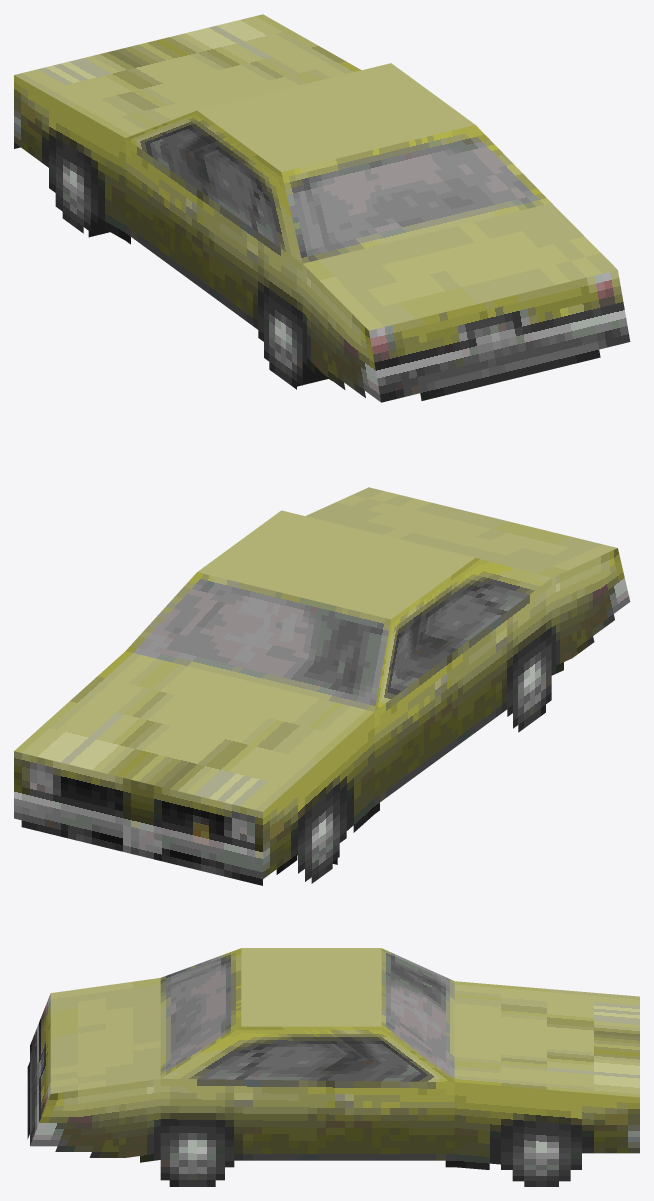
The model's file is car-lemans-plt3.glb.
3 renders of one model, top to bottom at view 1: azimuth 30°, elevation 25°; view 2: azimuth 150°, elevation 25°; view 3: azimuth 270°, elevation 25°, orthographic. The views are drawn at different scales.
Parts seen in each view (by area): view 1: car-lemans-plt3; view 2: car-lemans-plt3; view 3: car-lemans-plt3.
Part boxes in pixels (x1,y1,x2,y2): car-lemans-plt3: [14, 14, 630, 402]; car-lemans-plt3: [14, 487, 630, 885]; car-lemans-plt3: [27, 948, 639, 1186].
Bounding box in the file's own units: 1.98 × 1.37 × 5.2.
16 materials, 16 textured.
